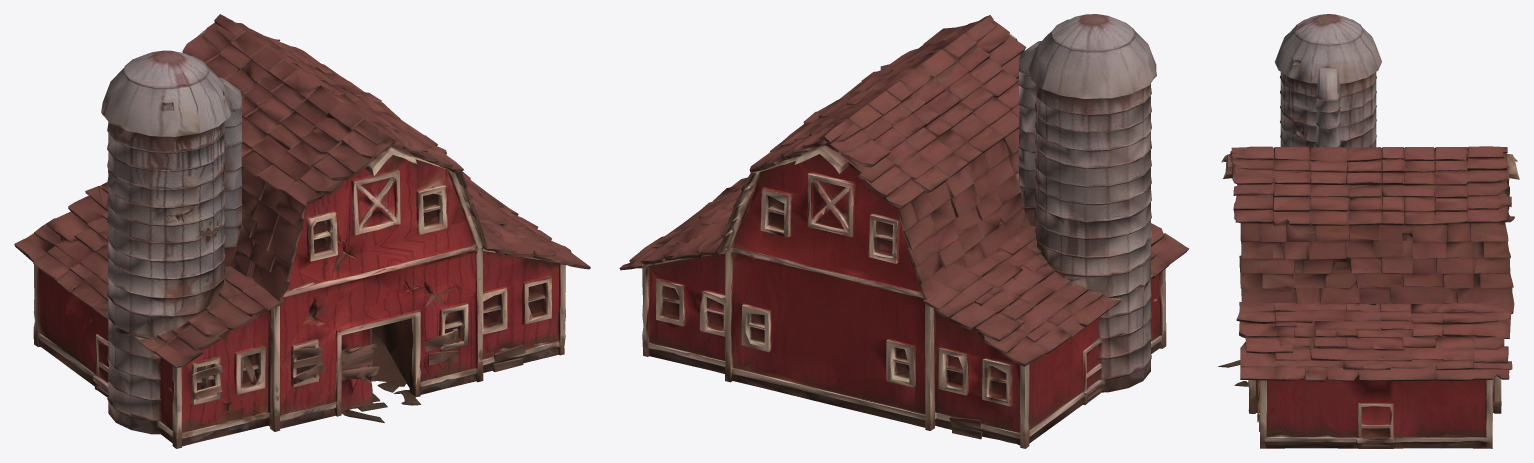
The model's file is farm_barn_b_idle.glb.
3 renders of one model, left to right at view 1: azimuth 30°, elevation 25°; view 2: azimuth 150°, elevation 25°; view 3: azimuth 270°, elevation 25°, orthographic. The views are drawn at different scales.
Parts seen in each view (by area): view 1: tripo_node_40247b57-27c8-486e-add4-598ee204e42b; view 2: tripo_node_40247b57-27c8-486e-add4-598ee204e42b; view 3: tripo_node_40247b57-27c8-486e-add4-598ee204e42b.
Boxes of the visible parts, left/top/right/bottom form: tripo_node_40247b57-27c8-486e-add4-598ee204e42b: left=14, top=14, right=590, bottom=448; tripo_node_40247b57-27c8-486e-add4-598ee204e42b: left=619, top=14, right=1189, bottom=448; tripo_node_40247b57-27c8-486e-add4-598ee204e42b: left=1218, top=14, right=1519, bottom=448.
Bounding box in the file's own units: 16 × 12.65 × 11.94.
Materials: 1 (1 with a texture image).
